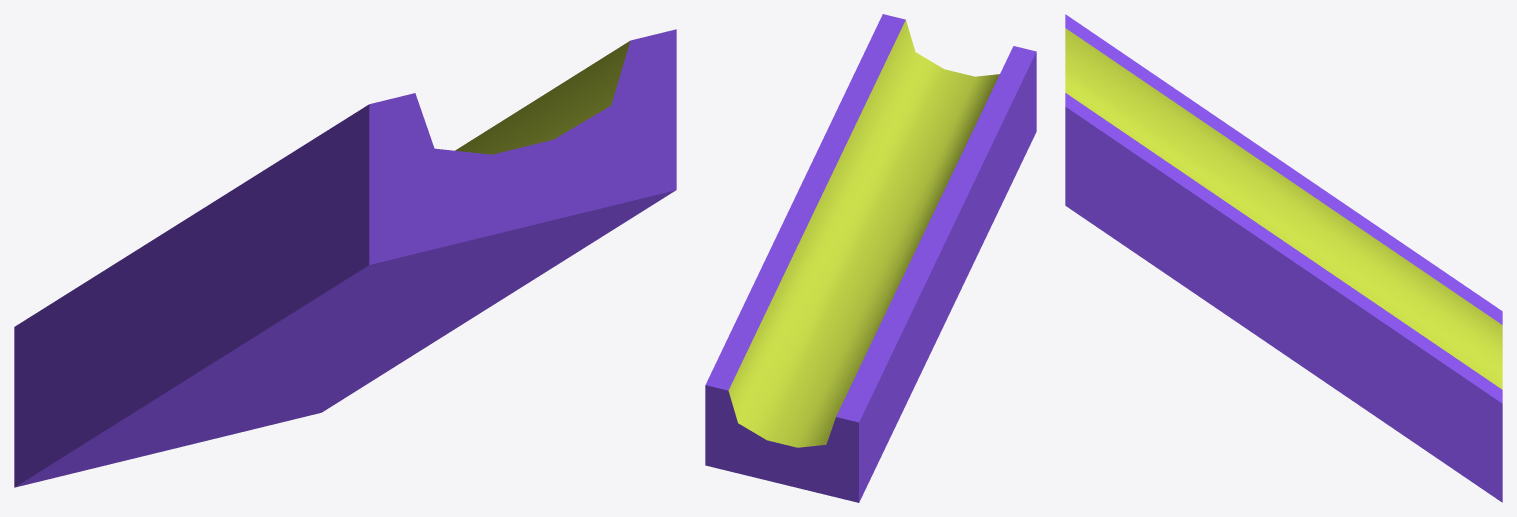
File: slan_long_D.fbx
3 renders of one model, left to right at view 1: azimuth 30°, elevation 25°; view 2: azimuth 150°, elevation 25°; view 3: azimuth 270°, elevation 25°, orthographic. The views are drawn at different scales.
Visible parts, largest first — view 1: slan_long_D; view 2: slan_long_D; view 3: slan_long_D.
Part boxes in pixels (box(x1,y1,x2,y2)): slan_long_D: box(14, 29, 676, 487); slan_long_D: box(705, 14, 1036, 502); slan_long_D: box(1065, 14, 1502, 502).
Bounding box in the file's own units: 10 × 20 × 20.
